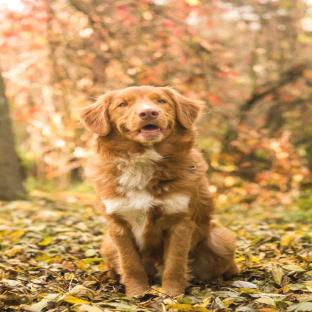Animal: (80, 86, 237, 296)
